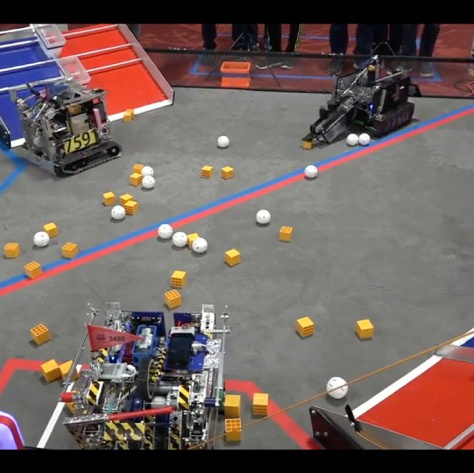robot: (55, 298, 240, 450), (7, 77, 124, 182), (304, 53, 417, 147)
